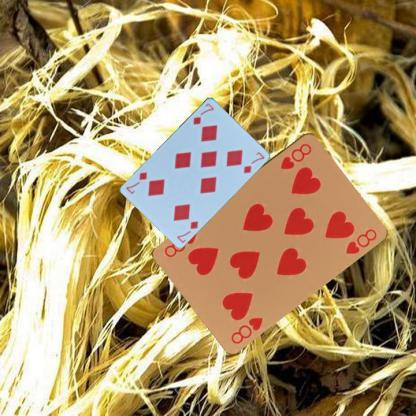7d: (174, 218, 200, 244), (190, 100, 215, 125)
8h: (228, 314, 265, 345), (277, 140, 313, 170)
